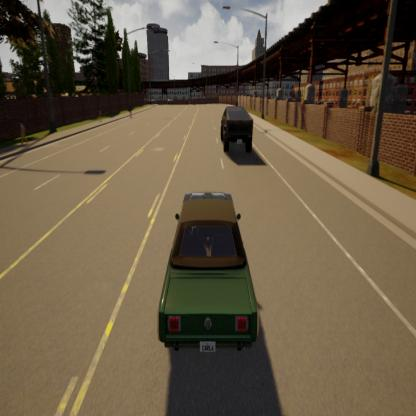Cars: (154, 188, 260, 358), (220, 104, 255, 156)
Pedestrian: (18, 117, 28, 149), (96, 102, 104, 122)
